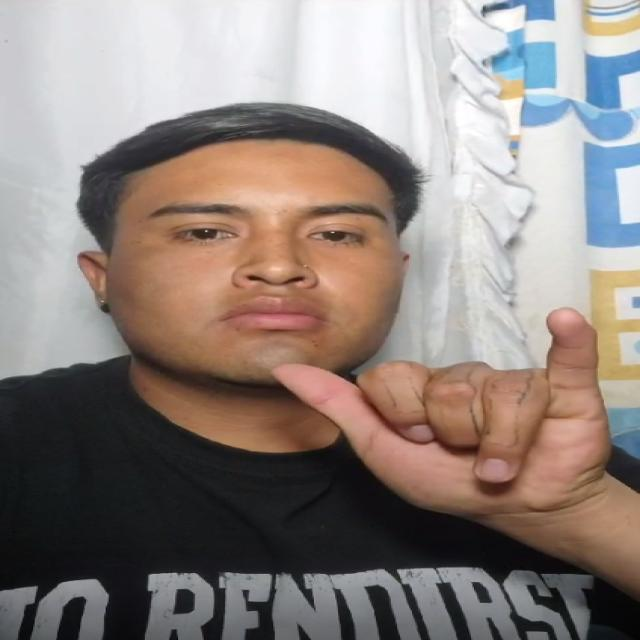Y: (238, 302, 640, 528)
